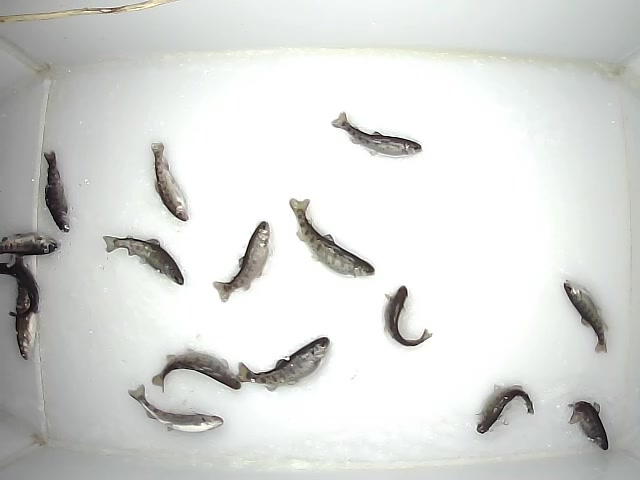fish: (288, 196, 377, 278), (235, 332, 330, 393), (123, 382, 226, 434), (210, 220, 274, 303), (101, 233, 185, 287), (330, 111, 423, 156), (150, 348, 242, 393), (563, 278, 611, 356), (473, 382, 535, 437), (382, 283, 435, 347), (151, 141, 191, 223), (39, 149, 72, 233), (8, 268, 36, 359), (567, 399, 608, 449), (1, 263, 42, 311), (1, 229, 59, 256), (556, 367, 557, 368)
